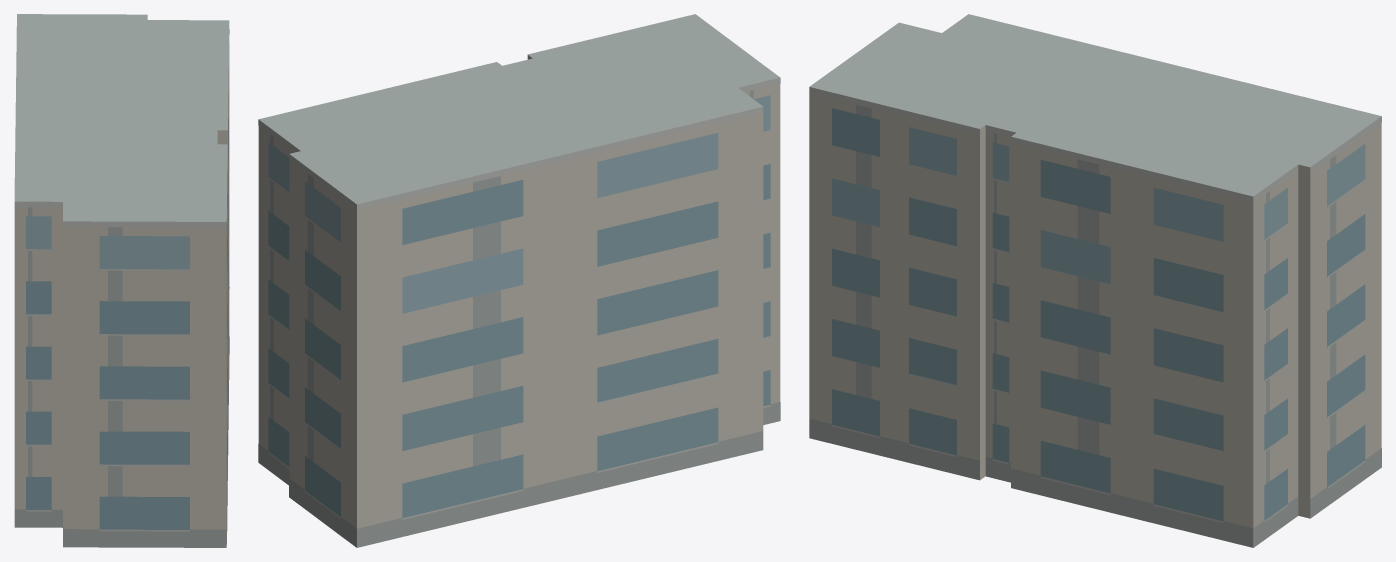
File: survey-upis-32624572.glb
3 renders of one model, left to right at view 1: azimuth 30°, elevation 25°; view 2: azimuth 150°, elevation 25°; view 3: azimuth 270°, elevation 25°, orthographic. The views are drawn at different scales.
Visible parts, largest first — view 1: survey-upis-32624572.tmp; view 2: survey-upis-32624572.tmp; view 3: survey-upis-32624572.tmp.
Part boxes in pixels (box(x1,y1,x2,y2)): survey-upis-32624572.tmp: box(14, 14, 229, 547); survey-upis-32624572.tmp: box(258, 14, 780, 547); survey-upis-32624572.tmp: box(809, 14, 1381, 547).
Bounding box in the file's own units: 15.66 × 14.04 × 20.74.
